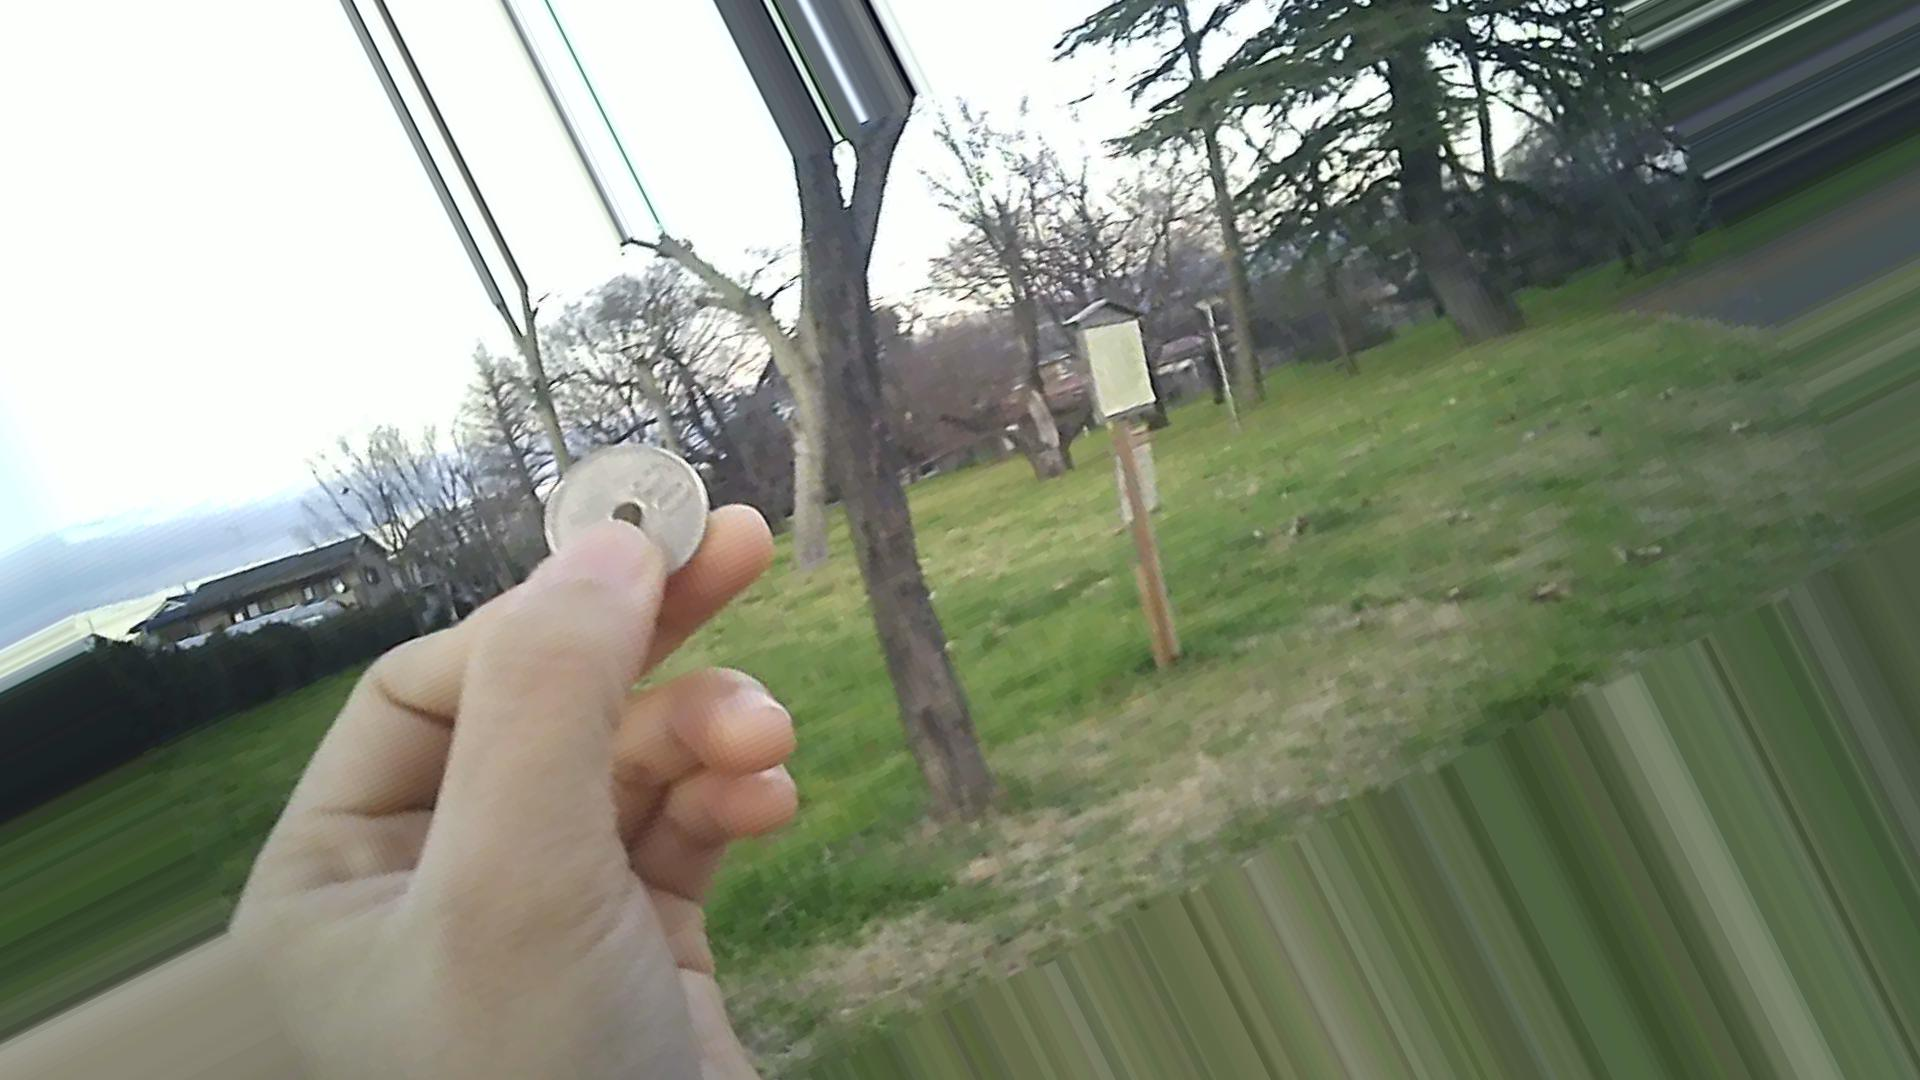50 Yen: (527, 436, 717, 579)
